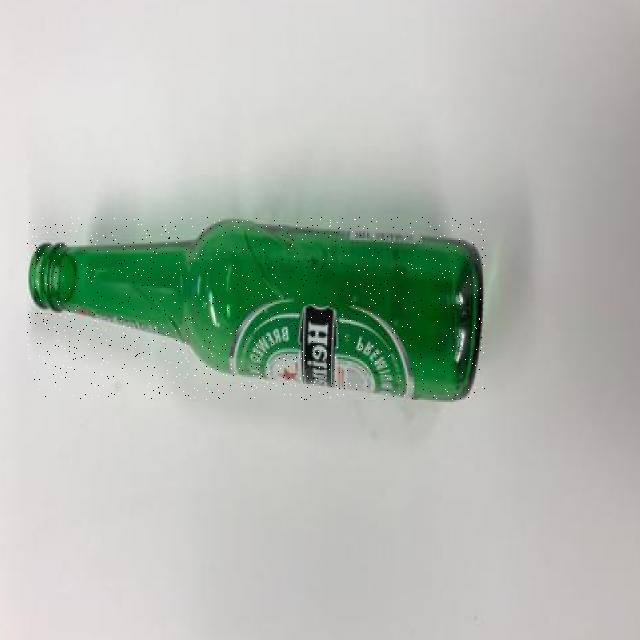glass: (28, 217, 486, 400)
